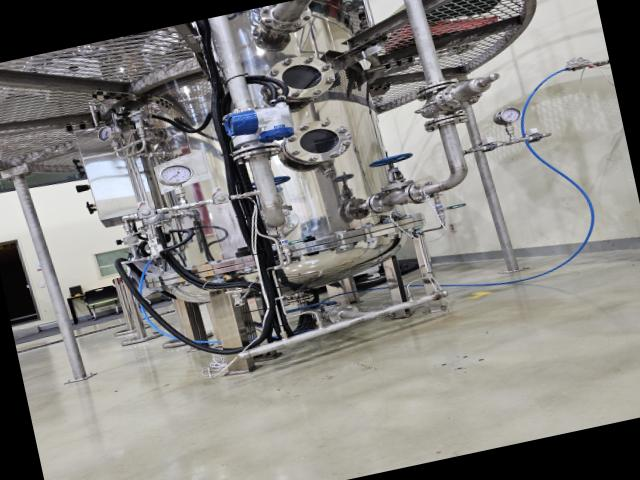Flange: (259, 46, 341, 109), (278, 112, 360, 170)
Flush Ring: (254, 0, 320, 38), (255, 204, 302, 241), (228, 139, 287, 166), (411, 76, 466, 100), (419, 110, 472, 134), (322, 298, 366, 326), (400, 178, 442, 207), (360, 190, 396, 218)
GasRegulator: (88, 101, 178, 170)
Nuts: (207, 188, 241, 207), (130, 204, 163, 222), (518, 129, 551, 147), (475, 140, 504, 155)
Piston Valve: (362, 142, 424, 192), (270, 171, 298, 203)
Pressure Gage: (154, 159, 203, 209), (488, 103, 532, 144)
